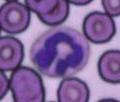N: (28, 26, 90, 78)
